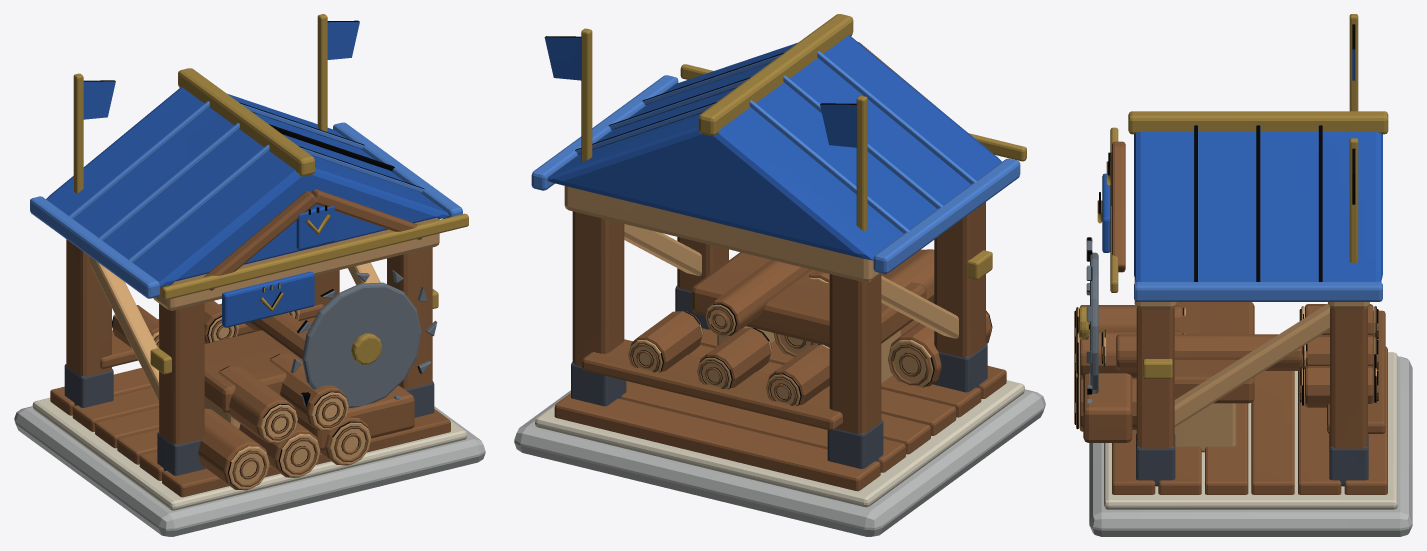
File: lumberyard_high.glb
The picture shows the model from 3 angles, left to right: view 1: azimuth 30°, elevation 25°; view 2: azimuth 150°, elevation 25°; view 3: azimuth 270°, elevation 25°; orthographic projection. The views are drawn at different scales.
Parts seen in each view (by area): view 1: lumberyard_high_surface; view 2: lumberyard_high_surface; view 3: lumberyard_high_surface.
Part boxes in pixels (x1,y1,x2,y2): lumberyard_high_surface: (14, 14, 485, 536); lumberyard_high_surface: (514, 14, 1045, 536); lumberyard_high_surface: (1074, 14, 1412, 536).
Size of the model in its own units: 1.6 by 1.72 by 1.38.
Materials: 1 (1 with a texture image).
